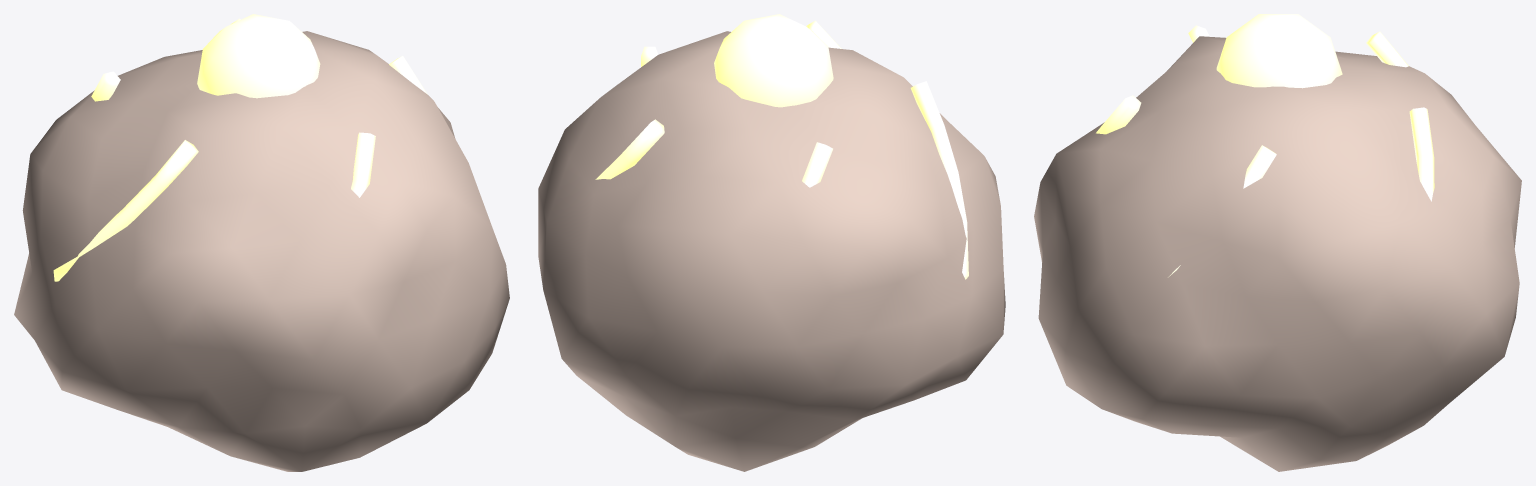
The model's file is pierre_soleil.glb.
The picture shows the model from 3 angles, left to right: view 1: azimuth 30°, elevation 25°; view 2: azimuth 150°, elevation 25°; view 3: azimuth 270°, elevation 25°; orthographic projection. The views are drawn at different scales.
Visible parts, largest first — view 1: pierre, coeur, veine.002, veine.003, veine.001; view 2: pierre, coeur, veine.002, veine, veine.001; view 3: pierre, coeur, veine, veine.003, veine.001, veine.004.
Part boxes in pixels (x1,y1,x2,y2): pierre: (14, 31, 509, 471); coeur: (197, 14, 320, 98); veine.002: (53, 140, 198, 281); veine.003: (351, 132, 375, 197); veine.001: (91, 71, 120, 101); pierre: (538, 31, 1005, 471); coeur: (714, 14, 833, 107); veine.002: (910, 81, 968, 279); veine: (595, 119, 664, 179); veine.001: (802, 142, 832, 187); pierre: (1034, 36, 1521, 471); coeur: (1216, 14, 1342, 88); veine: (1409, 107, 1434, 201); veine.003: (1096, 95, 1141, 134); veine.001: (1366, 31, 1408, 67); veine.004: (1168, 145, 1276, 277).
Size of the model in its own units: 1.51 by 1.45 by 1.52.
